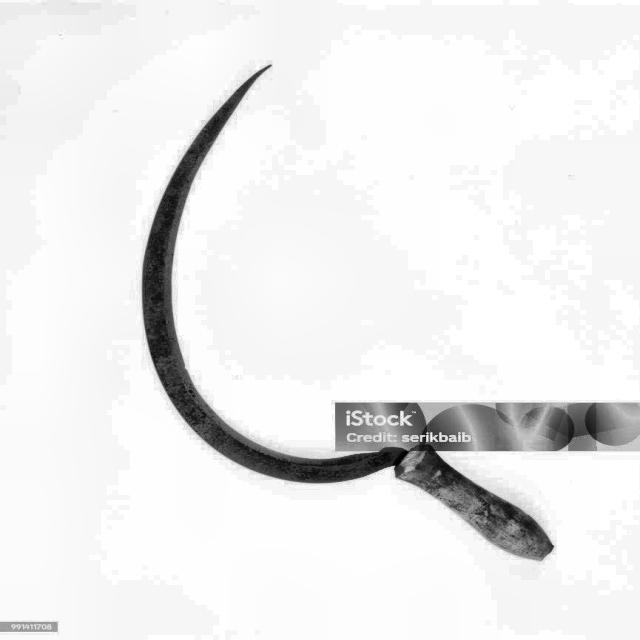celurit: (120, 55, 577, 579)
